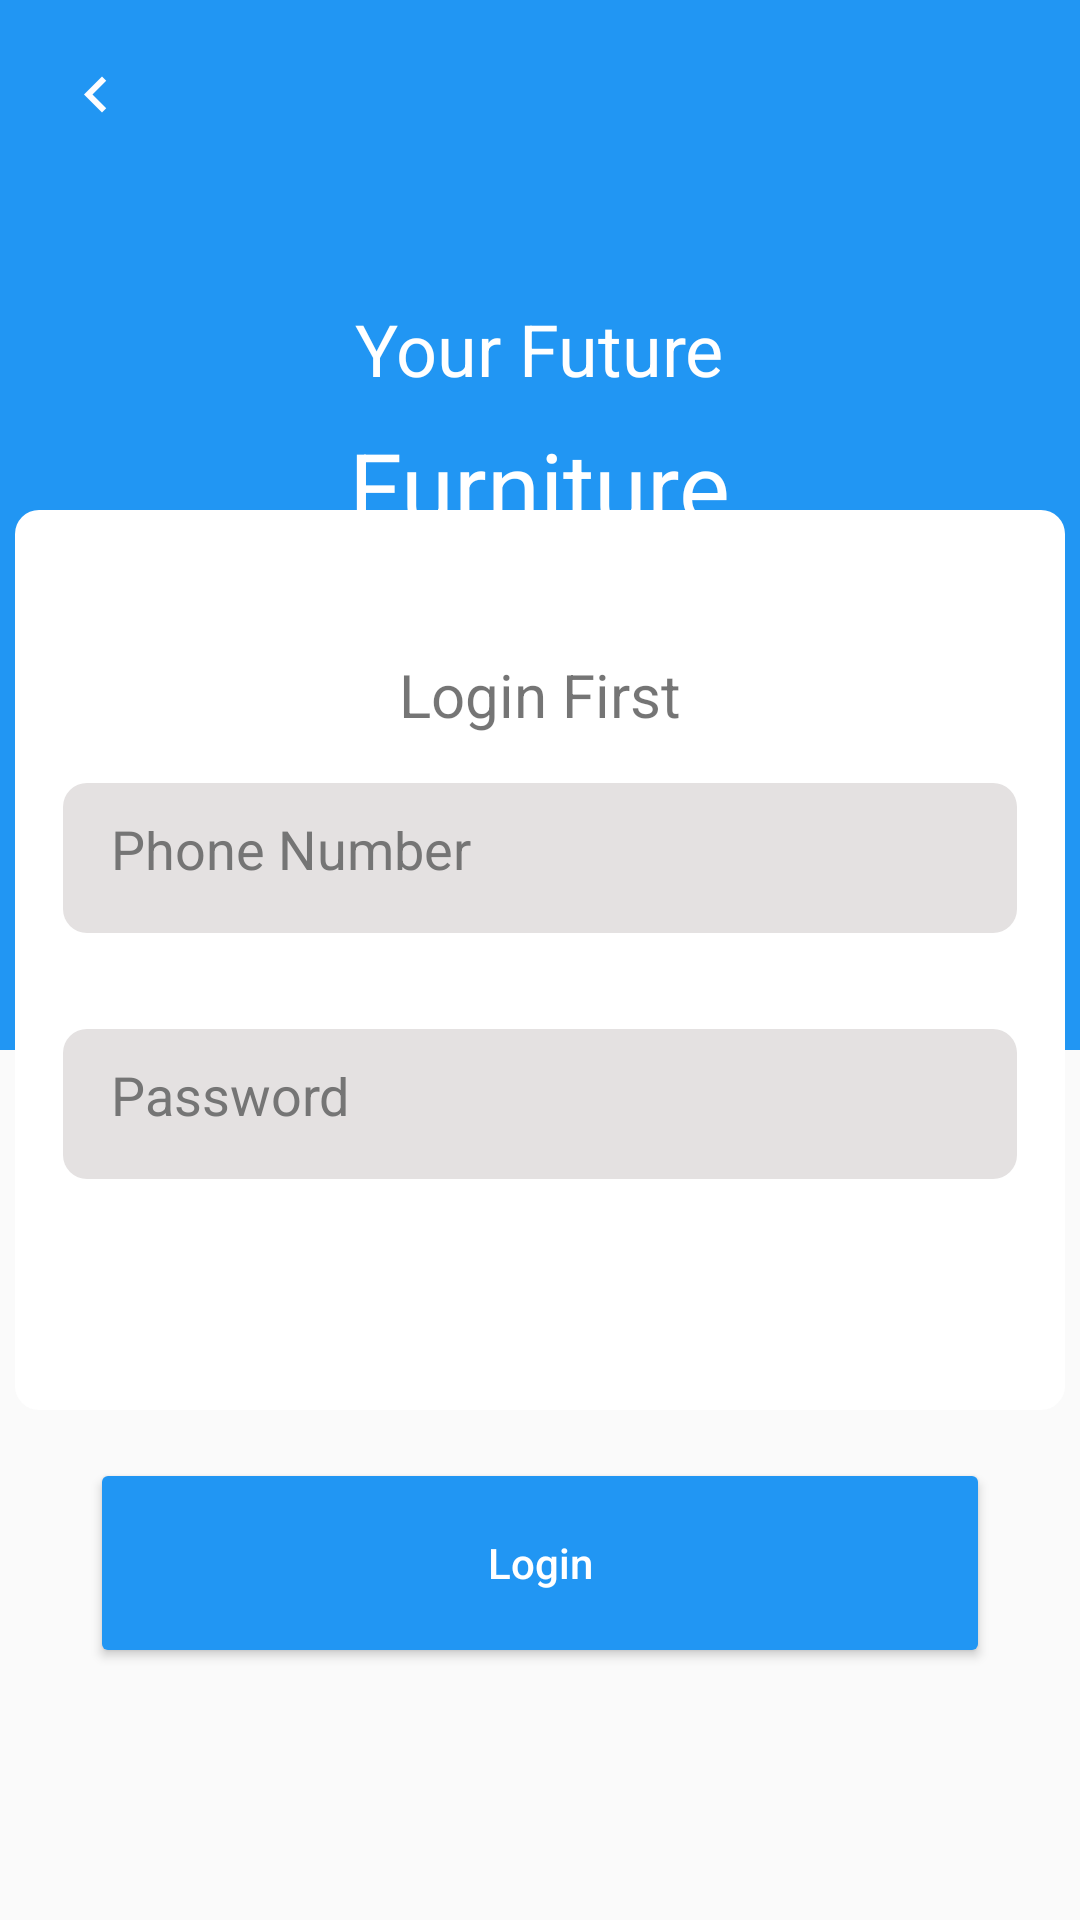

Point at icon controls on the screen. Image size 1080w x 1920h, points as (x,y).
keyboard arrow left: (95,94)
